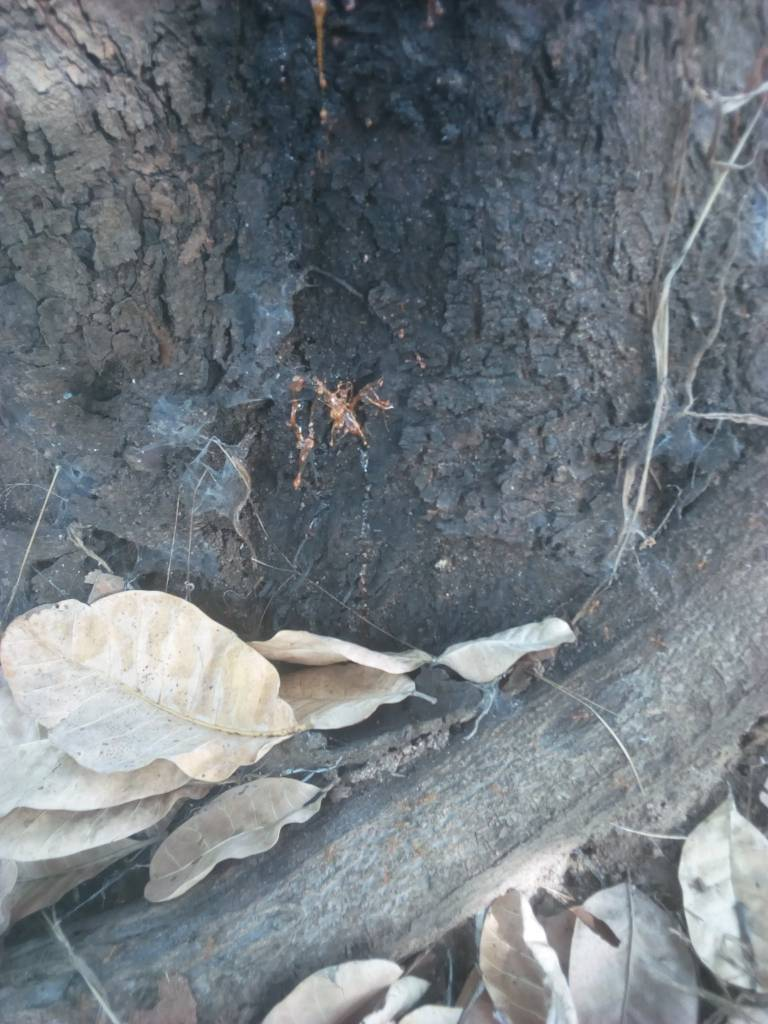Gommose: (225, 1, 600, 592)
